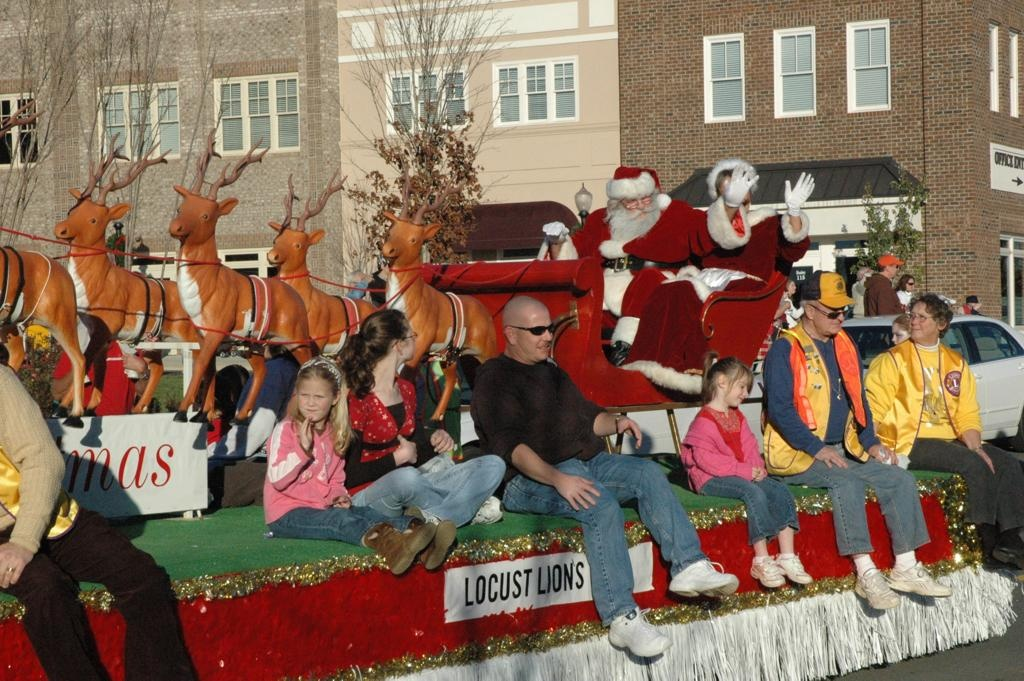human_face: (514, 314, 550, 358), (298, 380, 332, 420), (814, 297, 846, 335), (620, 191, 654, 224), (909, 305, 937, 339), (720, 173, 746, 205), (392, 323, 414, 359), (726, 374, 750, 406), (891, 326, 911, 352), (888, 261, 898, 277), (904, 278, 912, 290), (787, 282, 795, 292)
